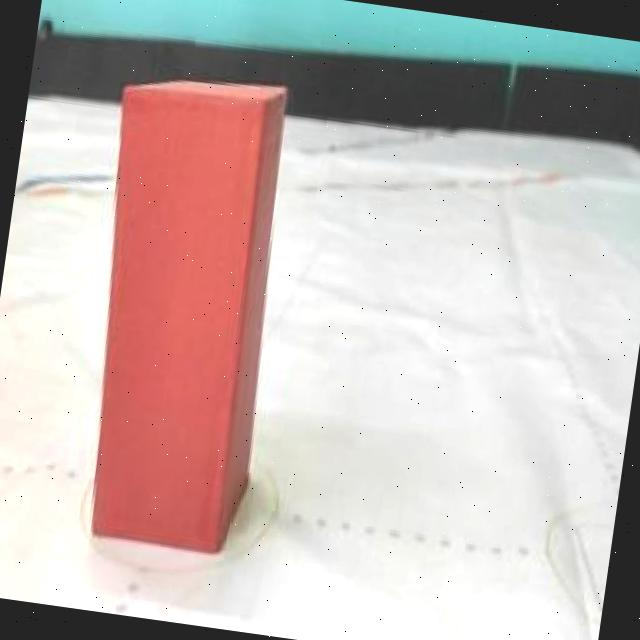redbox: (61, 67, 299, 556)
